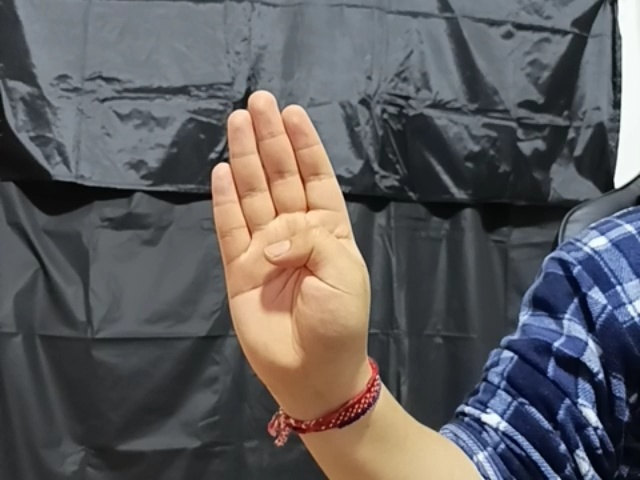B: (202, 87, 380, 384)
